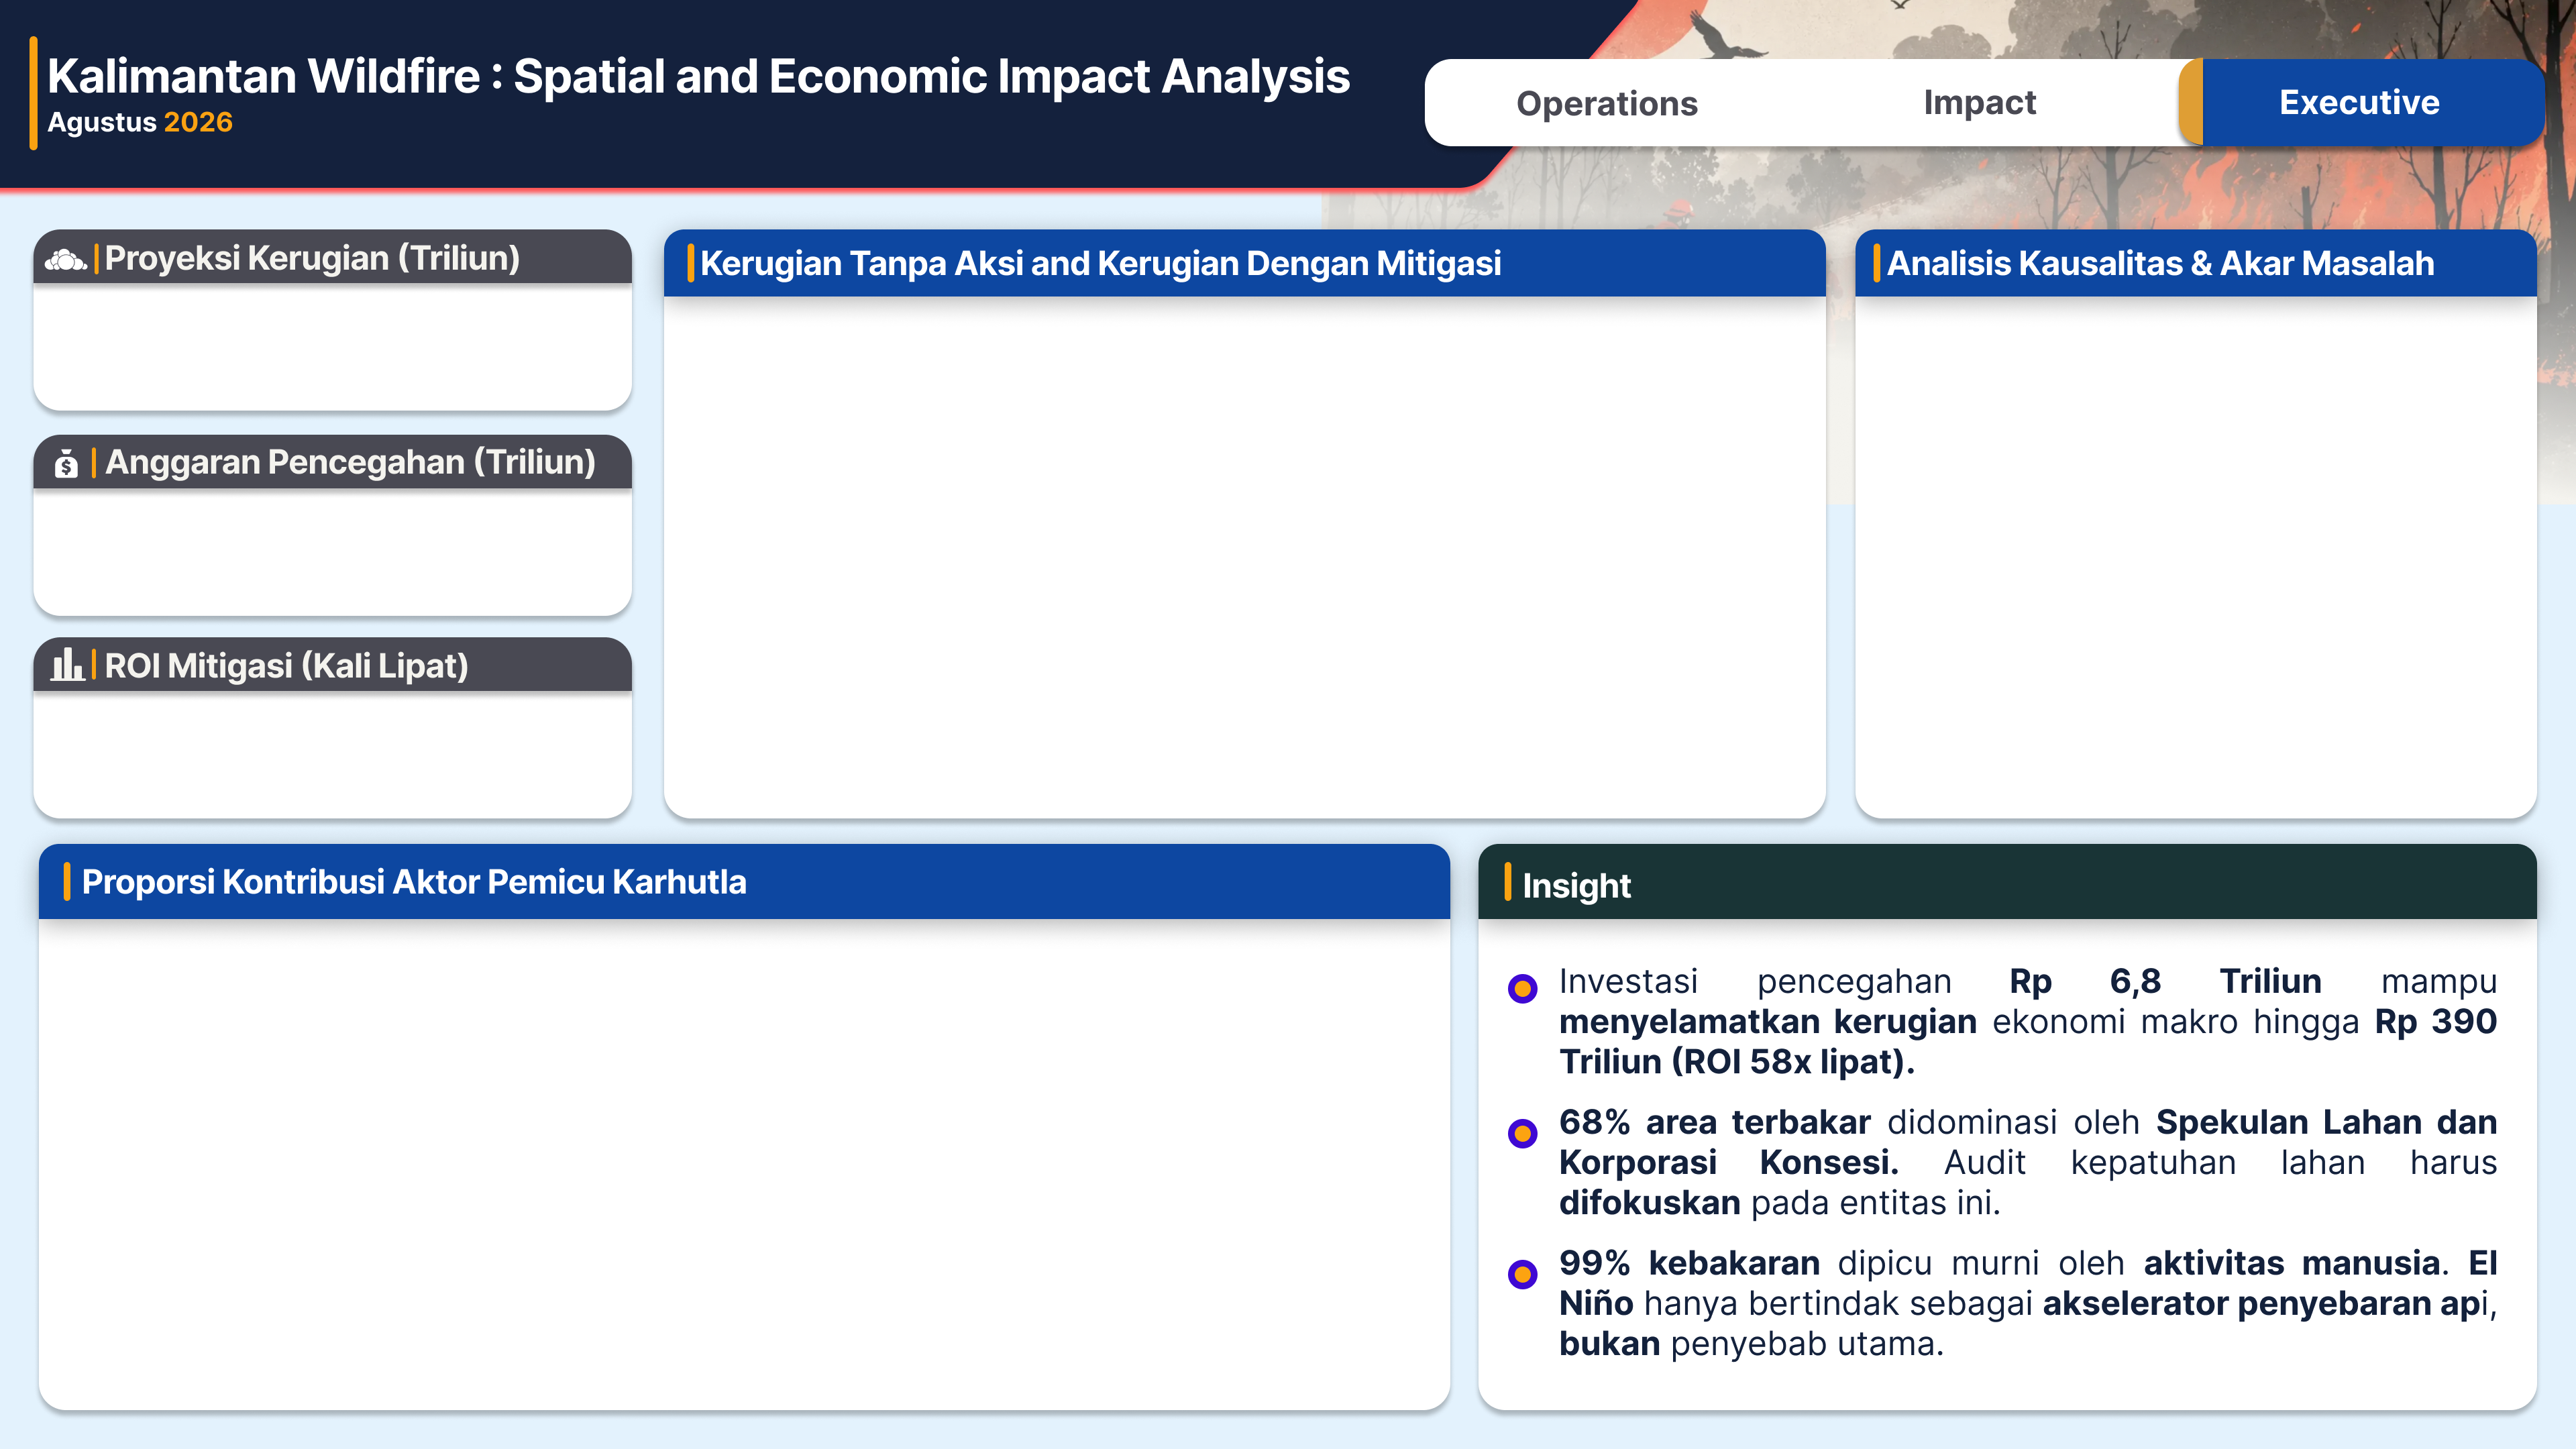

The dashboard page shown, as its layout file describes it:
{"tool":"powerbi","page":{"name":"Page 3","canvas":[1920,1080],"ordinal":2},"visuals":[{"type":"cardVisual","title":"Anggaran Pencegahan (Triliun Rp)","fields":{"Data":["Sum(kalimantan_cost_benefit_mitigation.value_trillion_idr)"]},"box":[38.2,371.8,420.9,80],"z":0},{"type":"cardVisual","title":"Proyeksi Kerugian (Triliun Rp)","fields":{"Data":["Sum(kalimantan_damage_prediction_scenarios.unmitigated_loss_trillion_idr)"]},"box":[30,218.2,435.5,75.5],"z":1000},{"type":"cardVisual","title":"ROI Mitigasi (Kali Lipat)","fields":{"Data":["Sum(kalimantan_cost_benefit_mitigation.value_trillion_idr)"]},"box":[38.2,526.4,420.9,69.1],"z":2000},{"type":"clusteredBarChart","fields":{"Category":["kalimantan_damage_prediction_scenarios.sector"],"Y":["Sum(kalimantan_damage_prediction_scenarios.unmitigated_loss_trillion_idr)","Sum(kalimantan_damage_prediction_scenarios.avoided_loss_trillion_idr)"]},"box":[508.6,235.7,838.6,360],"z":3000},{"type":"clusteredBarChart","title":"Proporsi Kontribusi Aktor Pemicu Karhutla","fields":{"Category":["kalimantan_fire_actors_breakdown.actor_group"],"Y":["Sum(kalimantan_fire_actors_breakdown.share_pct)"]},"box":[46,692,1022,346],"z":4000},{"type":"pieChart","title":"Analisis Kausalitas & Akar Masalah","fields":{"Category":["kalimantan_fire_causality_stats.cause_category"],"Series":["kalimantan_fire_causality_stats.ignition_source"],"Y":["Sum(kalimantan_fire_causality_stats.percentage_share)"]},"box":[1391.7,235,490,360],"z":5000}]}

Visuals, with their boxes in screenshot pixels (x1, y1, x2, y2), scaled from the page's 1920x1080 canvas onto the 2576x1449 screenshot:
"Anggaran Pencegahan (Triliun Rp)" cardVisual: <bbox>51, 499, 616, 606</bbox>
"Proyeksi Kerugian (Triliun Rp)" cardVisual: <bbox>40, 292, 625, 394</bbox>
"ROI Mitigasi (Kali Lipat)" cardVisual: <bbox>51, 706, 616, 799</bbox>
clusteredBarChart - kalimantan_damage_prediction_scenarios.sector x Sum(kalimantan_damage_prediction_scenarios.unmitigated_loss_trillion_idr): <bbox>682, 316, 1807, 799</bbox>
"Proporsi Kontribusi Aktor Pemicu Karhutla" clusteredBarChart: <bbox>62, 928, 1433, 1393</bbox>
"Analisis Kausalitas & Akar Masalah" pieChart: <bbox>1867, 315, 2524, 798</bbox>
